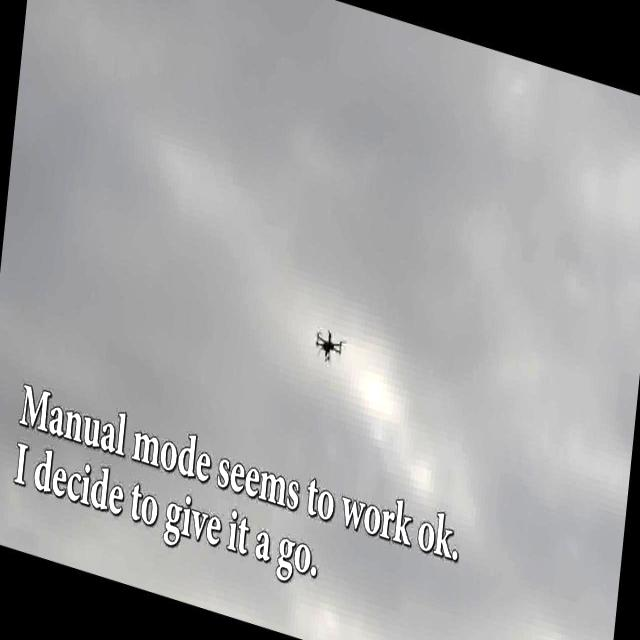drone: (312, 318, 346, 368)
